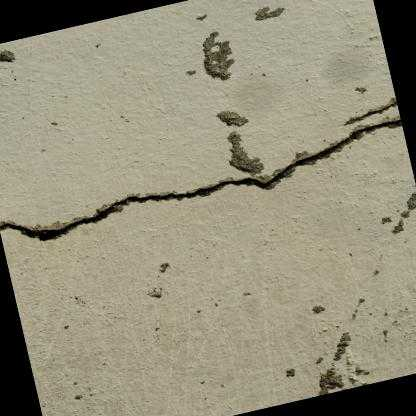crack: (33, 118, 401, 237), (345, 100, 397, 123), (0, 221, 37, 239)
